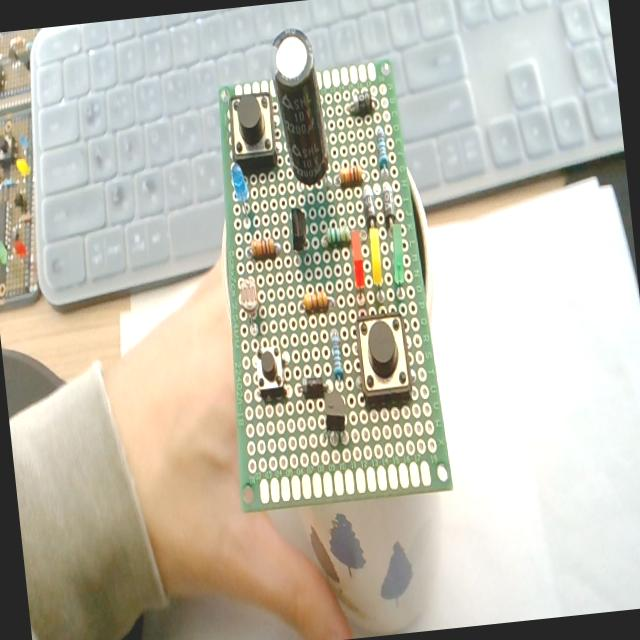Electrolytic capacitor: (266, 25, 332, 188)
cds: (238, 275, 262, 333)
diode: (345, 88, 375, 117), (380, 180, 396, 223), (361, 183, 376, 226), (300, 375, 325, 399)
led: (348, 228, 368, 304), (230, 162, 252, 228), (389, 222, 409, 286), (366, 224, 384, 284)
resistor: (372, 127, 397, 230), (302, 286, 331, 314), (328, 328, 344, 378), (320, 224, 352, 249), (250, 234, 278, 260), (375, 125, 389, 169), (338, 163, 363, 186)
switch: (353, 308, 412, 401), (224, 87, 278, 171), (252, 341, 286, 400)
transistor: (322, 389, 348, 433), (288, 205, 308, 250)
